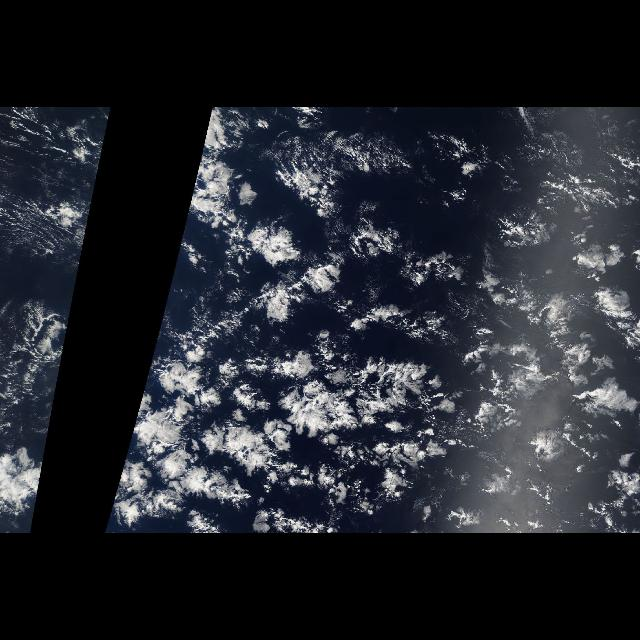Flower: (108, 111, 636, 529), (23, 122, 109, 510)
Sugar: (5, 111, 77, 252)
